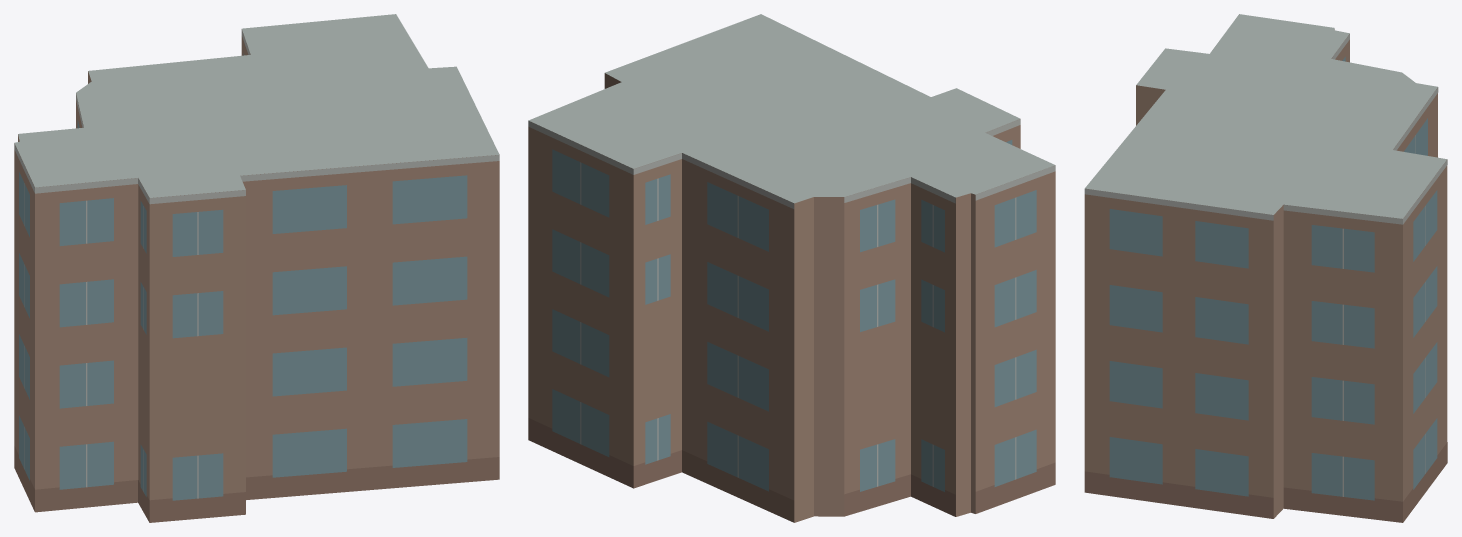
Rendered from survey-upis-32856160.glb.
3 renders of one model, left to right at view 1: azimuth 30°, elevation 25°; view 2: azimuth 150°, elevation 25°; view 3: azimuth 270°, elevation 25°, orthographic. The views are drawn at different scales.
Parts seen in each view (by area): view 1: survey-upis-32856160.tmp; view 2: survey-upis-32856160.tmp; view 3: survey-upis-32856160.tmp.
Boxes of the visible parts, x1,y1,x2,y2 form: survey-upis-32856160.tmp: (14,14,499,522); survey-upis-32856160.tmp: (528,14,1055,522); survey-upis-32856160.tmp: (1084,14,1447,522).
Bounding box in the file's own units: 18.51 × 12.8 × 13.85.
